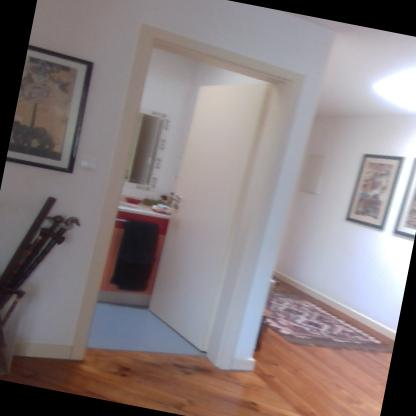open: (59, 1, 317, 400)
